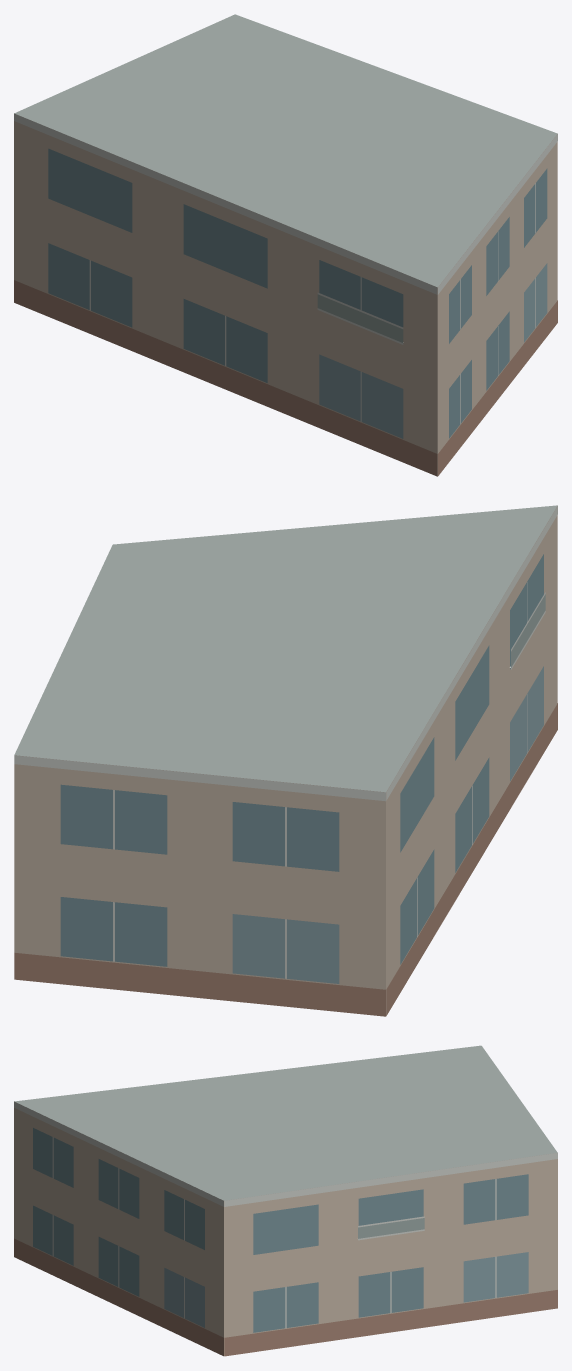
The model's file is survey-upis-32898216.glb.
3 views of the same model, one above another, from view 1: azimuth 30°, elevation 25°; view 2: azimuth 150°, elevation 25°; view 3: azimuth 270°, elevation 25° (orthographic). The views are drawn at different scales.
Visible parts, largest first — view 1: survey-upis-32898216.tmp; view 2: survey-upis-32898216.tmp; view 3: survey-upis-32898216.tmp.
Boxes of the visible parts, x1,y1,x2,y2 form: survey-upis-32898216.tmp: (14,14,557,476); survey-upis-32898216.tmp: (14,505,557,1016); survey-upis-32898216.tmp: (14,1045,557,1356).
Size of the model in its own units: 13.07 by 6.1 by 19.33.
